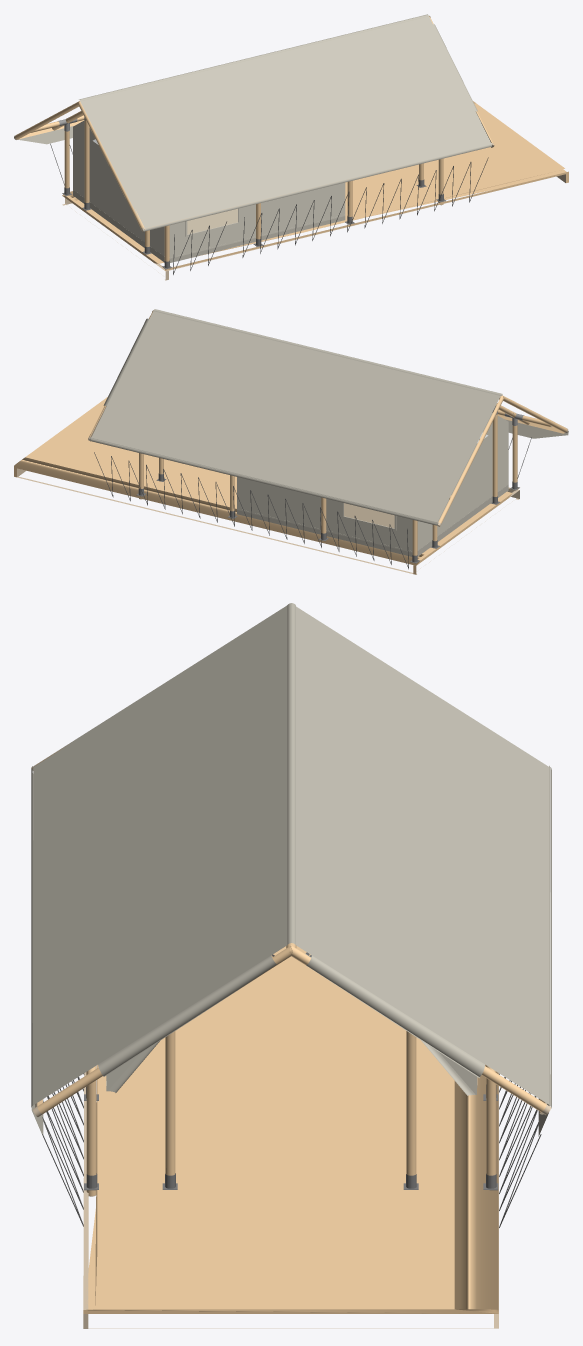
Rendered from dddd.glb.
3 renders of one model, top to bottom at view 1: azimuth 30°, elevation 25°; view 2: azimuth 150°, elevation 25°; view 3: azimuth 270°, elevation 25°, orthographic. The views are drawn at different scales.
Parts seen in each view (by area): view 1: Mesh124 Component_377_1 Component_564_1 Model, Mesh109 Component_340_1 Component_376_1 Model, Mesh255 Component_488_2 Model, Mesh244 Component_489_1 Model, Mesh126 Component_378_2 Component_564_1 Model, Mesh134 Component_378_3 Component_564_1 Model, Mesh182 Component_191_2 Component_192_1 Model, Mesh110 Component_339_1 Component_376_1 Model, Mesh142 Component_378_5 Component_387_1 Model, Mesh281 Component_43_11 Component_5_11 Component_182_1 Model, Mesh128 Component_380_1 Component_564_1 Model, Mesh181 Component_191_1 Component_192_1 Model (+1 smaller); view 2: Mesh145 Component_377_2 Component_387_1 Model, Mesh109 Component_340_1 Component_376_1 Model, Mesh253 Component_488_1 Model, Mesh244 Component_489_1 Model, Mesh143 Component_378_6 Component_387_1 Model, Mesh110 Component_339_1 Component_376_1 Model, Mesh125 Component_378_1 Component_564_1 Model, Mesh181 Component_191_1 Component_192_1 Model, Mesh127 Component_563_1 Component_564_1 Model, Mesh135 Component_378_4 Component_564_1 Model, Mesh288 Component_43_12 Component_5_12 Component_182_1 Model, Mesh144 Component_378_7 Component_387_1 Model (+3 smaller); view 3: Mesh109 Component_340_1 Component_376_1 Model, Mesh124 Component_377_1 Component_564_1 Model, Mesh145 Component_377_2 Component_387_1 Model, Mesh139 Component_381_2 Component_387_1 Model, Mesh131 Component_381_1 Component_564_1 Model, Mesh110 Component_339_1 Component_376_1 Model, Mesh125 Component_378_1 Component_564_1 Model, Mesh134 Component_378_3 Component_564_1 Model, Mesh22 Component_43_2 Component_5_2 Model, Mesh116 Component_43_3 Component_5_3 Model, Mesh2 Component_43_1 Component_5_1 Model, Mesh207 Component_191_3 Component_192_2 Model (+4 smaller).
Part boxes in pixels (bbox=[...]): Mesh124 Component_377_1 Component_564_1 Model: bbox=[80, 16, 491, 228]; Mesh109 Component_340_1 Component_376_1 Model: bbox=[62, 101, 568, 270]; Mesh255 Component_488_2 Model: bbox=[169, 182, 345, 262]; Mesh244 Component_489_1 Model: bbox=[73, 120, 164, 262]; Mesh126 Component_378_2 Component_564_1 Model: bbox=[143, 144, 491, 231]; Mesh134 Component_378_3 Component_564_1 Model: bbox=[79, 14, 428, 101]; Mesh182 Component_191_2 Component_192_1 Model: bbox=[77, 101, 145, 232]; Mesh110 Component_339_1 Component_376_1 Model: bbox=[62, 173, 568, 280]; Mesh142 Component_378_5 Component_387_1 Model: bbox=[81, 15, 428, 100]; Mesh281 Component_43_11 Component_5_11 Component_182_1 Model: bbox=[84, 120, 89, 202]; Mesh128 Component_380_1 Component_564_1 Model: bbox=[18, 126, 73, 144]; Mesh181 Component_191_1 Component_192_1 Model: bbox=[14, 101, 79, 139]; Mesh145 Component_377_2 Component_387_1 Model: bbox=[91, 311, 500, 522]; Mesh109 Component_340_1 Component_376_1 Model: bbox=[14, 397, 519, 565]; Mesh253 Component_488_1 Model: bbox=[237, 477, 412, 556]; Mesh244 Component_489_1 Model: bbox=[417, 413, 508, 556]; Mesh143 Component_378_6 Component_387_1 Model: bbox=[90, 439, 437, 525]; Mesh110 Component_339_1 Component_376_1 Model: bbox=[14, 467, 519, 574]; Mesh125 Component_378_1 Component_564_1 Model: bbox=[153, 309, 502, 395]; Mesh181 Component_191_1 Component_192_1 Model: bbox=[438, 395, 504, 526]; Mesh127 Component_563_1 Component_564_1 Model: bbox=[505, 419, 568, 438]; Mesh135 Component_378_4 Component_564_1 Model: bbox=[89, 437, 438, 523]; Mesh288 Component_43_12 Component_5_12 Component_182_1 Model: bbox=[492, 414, 497, 496]; Mesh144 Component_378_7 Component_387_1 Model: bbox=[154, 309, 501, 394]; Mesh109 Component_340_1 Component_376_1 Model: bbox=[83, 946, 498, 1313]; Mesh124 Component_377_1 Component_564_1 Model: bbox=[32, 605, 287, 1105]; Mesh145 Component_377_2 Component_387_1 Model: bbox=[296, 606, 550, 1105]; Mesh139 Component_381_2 Component_387_1 Model: bbox=[306, 955, 484, 1076]; Mesh131 Component_381_1 Component_564_1 Model: bbox=[98, 955, 276, 1076]; Mesh110 Component_339_1 Component_376_1 Model: bbox=[83, 1072, 498, 1328]; Mesh125 Component_378_1 Component_564_1 Model: bbox=[291, 603, 295, 944]; Mesh134 Component_378_3 Component_564_1 Model: bbox=[287, 603, 291, 944]; Mesh22 Component_43_2 Component_5_2 Model: bbox=[165, 1031, 175, 1175]; Mesh116 Component_43_3 Component_5_3 Model: bbox=[406, 1031, 416, 1175]; Mesh2 Component_43_1 Component_5_1 Model: bbox=[86, 1080, 96, 1196]; Mesh207 Component_191_3 Component_192_2 Model: bbox=[32, 946, 292, 1116].
Size of the model in its own units: 10135 by 3342 by 5216.
